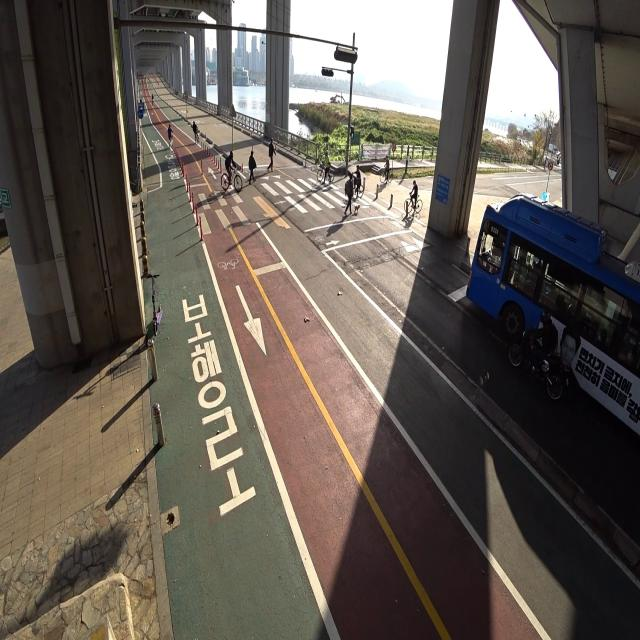Bus: (464, 170, 640, 468)
Motorcycle: (506, 303, 564, 402)
